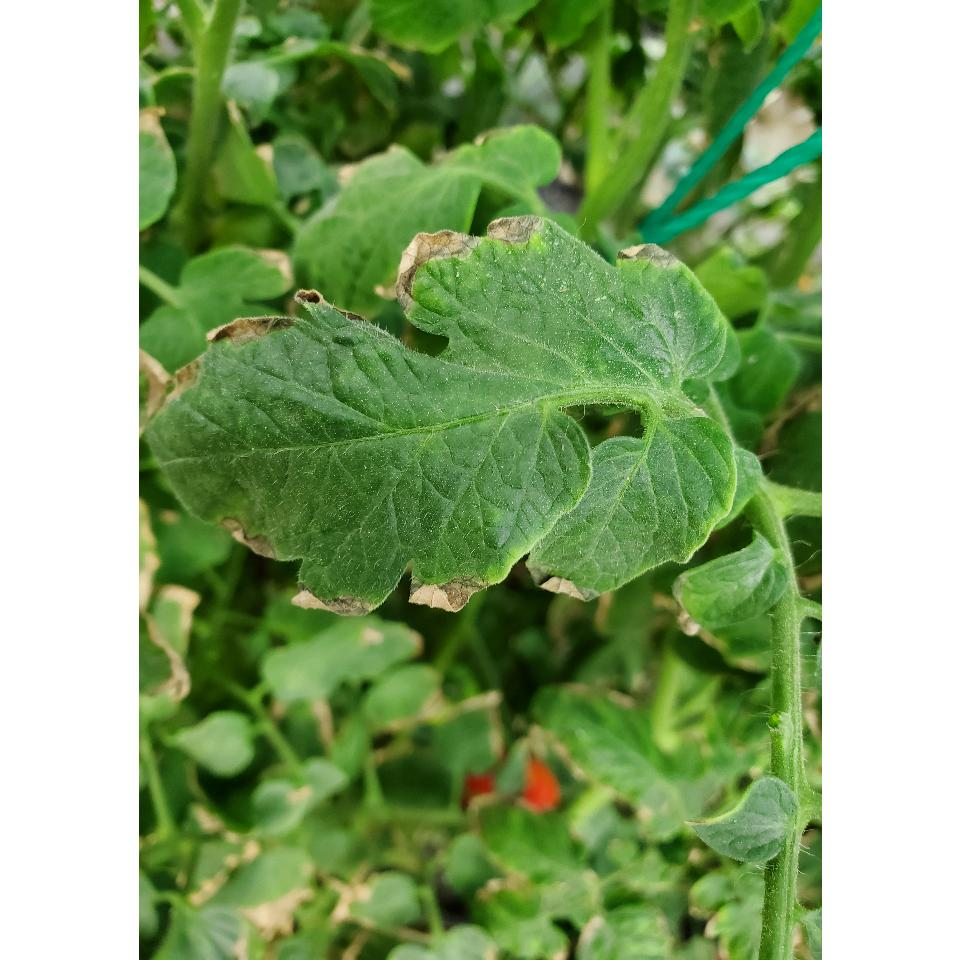tomato_bacterial_blight: (140, 217, 744, 615)
